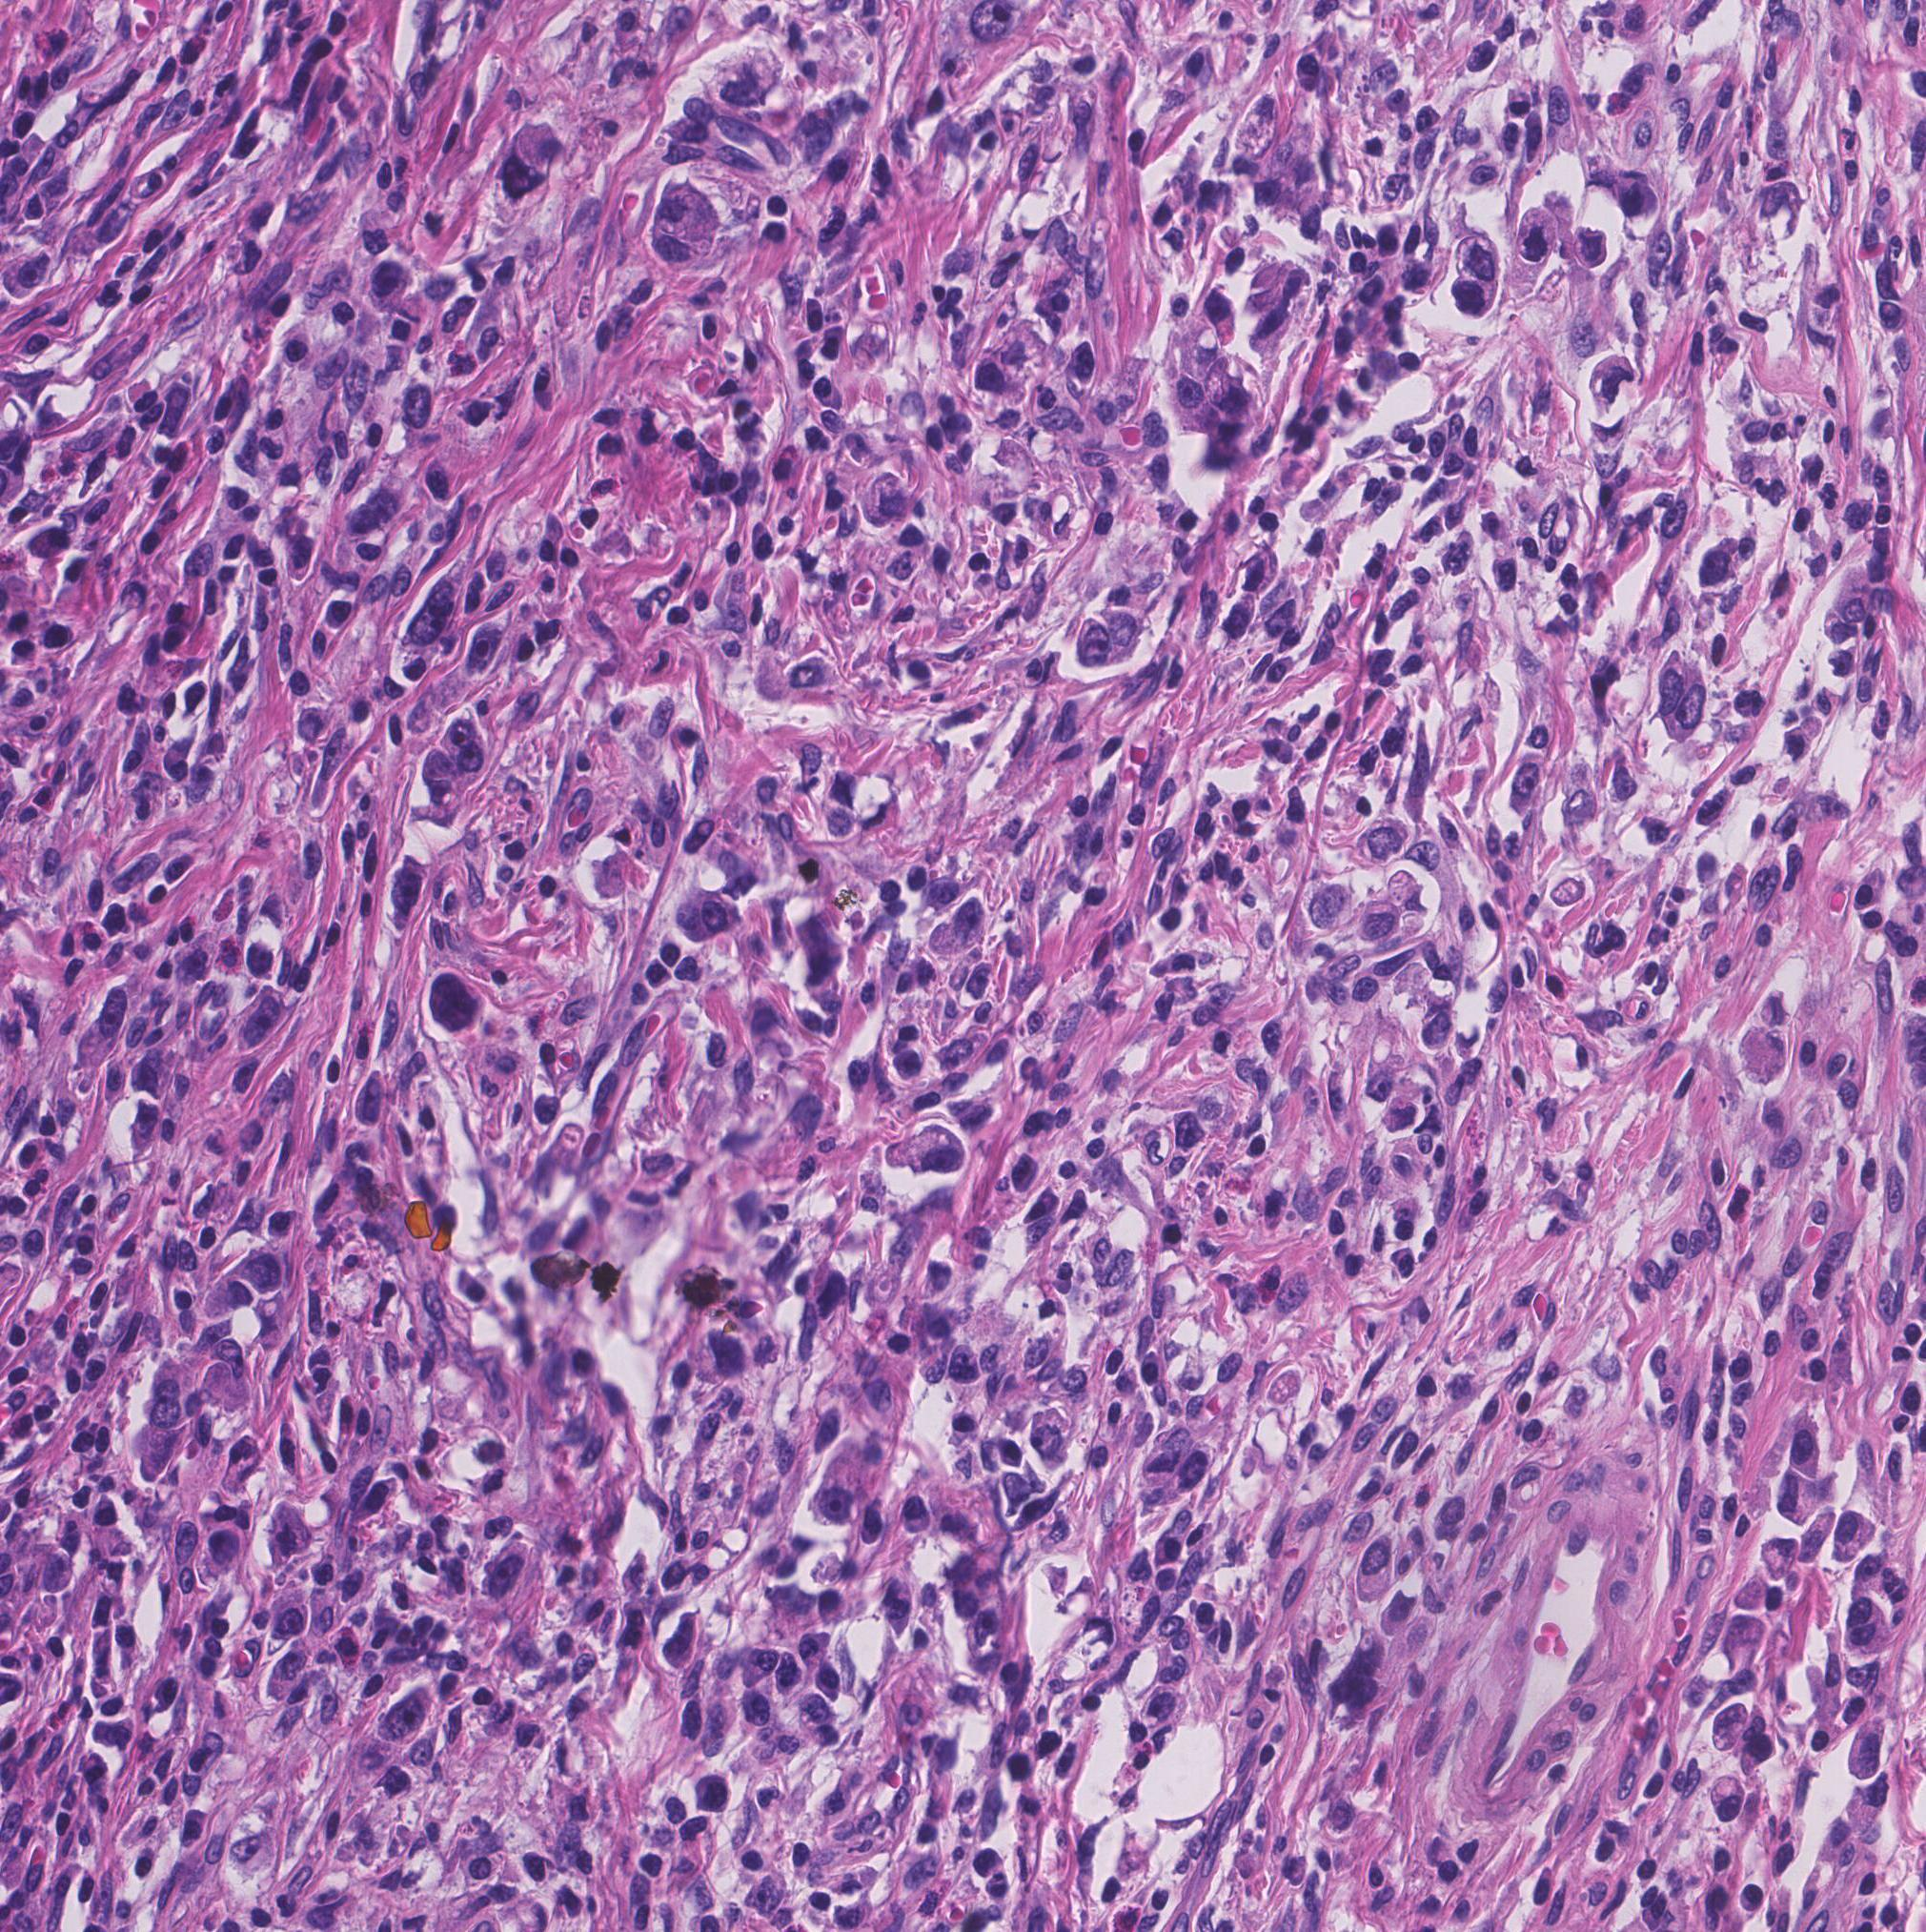ring_cell_cancer: (499, 122, 566, 208), (705, 42, 785, 115), (887, 1122, 968, 1186), (423, 965, 489, 1039), (653, 183, 723, 238), (1776, 1466, 1841, 1524), (1736, 1029, 1799, 1087), (677, 886, 743, 942), (1598, 168, 1665, 222), (266, 1496, 316, 1570), (1353, 1535, 1400, 1609), (1667, 669, 1711, 748), (1101, 602, 1153, 667), (201, 1267, 261, 1323), (1356, 817, 1415, 872), (1025, 1408, 1078, 1468), (1589, 349, 1640, 409), (861, 469, 914, 526), (1721, 1613, 1766, 1678), (1512, 206, 1559, 265), (1787, 1410, 1829, 1475), (1847, 1775, 1889, 1840), (1834, 1503, 1880, 1563), (1452, 229, 1503, 282), (1847, 1715, 1887, 1780), (1450, 270, 1499, 321), (1236, 543, 1282, 593), (1653, 656, 1686, 722), (1758, 1533, 1803, 1581), (1074, 619, 1115, 670), (1709, 1775, 1746, 1824), (1221, 591, 1256, 642), (1573, 224, 1612, 270), (695, 1775, 730, 1816), (1741, 1727, 1774, 1768)
